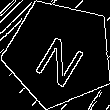N_NE: (28, 21, 90, 86)
